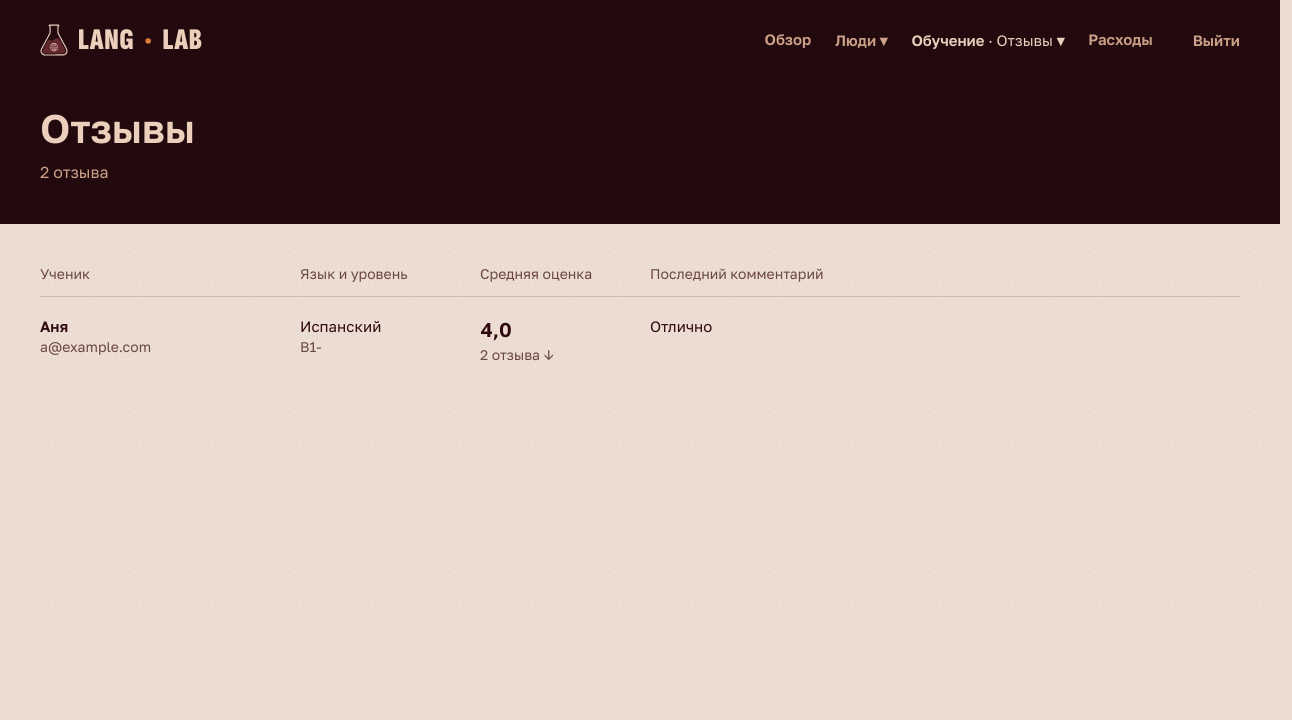
Test: feedback › a row per learner and language; the mean opens every answer
expect the text "Испанский" is shown: met, box [300,317,381,335]
expect the text "B1-" is shown: met, box [300,338,322,355]
Click the button "4,0 2 отзыва ↓": x=517, y=340 [480,315,554,365]
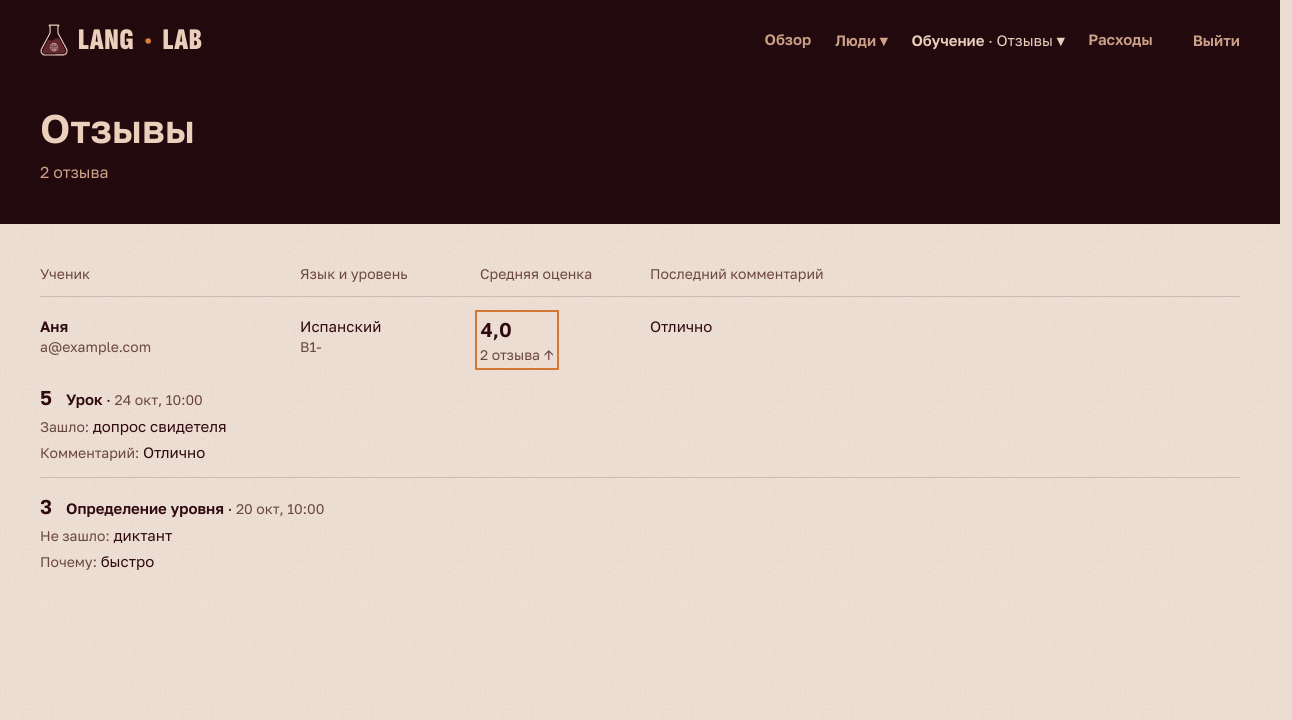
expect the text "Определение уровня" is shown: met, box [66,499,224,517]
expect the text "допрос свидетеля" is shown: met, box [93,417,226,435]
expect the text "быстро" is shown: met, box [101,552,154,570]
